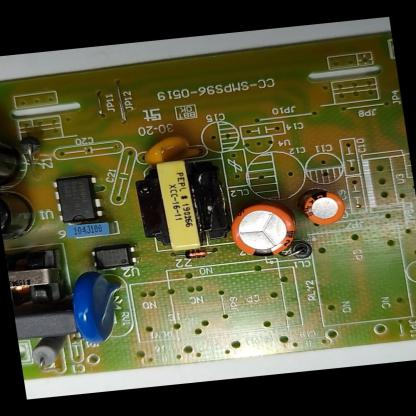Cap1: (230, 202, 300, 262)
Cap2: (294, 186, 350, 230)
Cap3: (0, 182, 43, 247)
Cap4: (0, 118, 35, 184)
MOSFET: (50, 172, 106, 225)
Mov: (66, 266, 130, 348)
Resistor: (27, 332, 75, 372)
Transformer: (132, 153, 235, 261), (5, 244, 64, 312)
